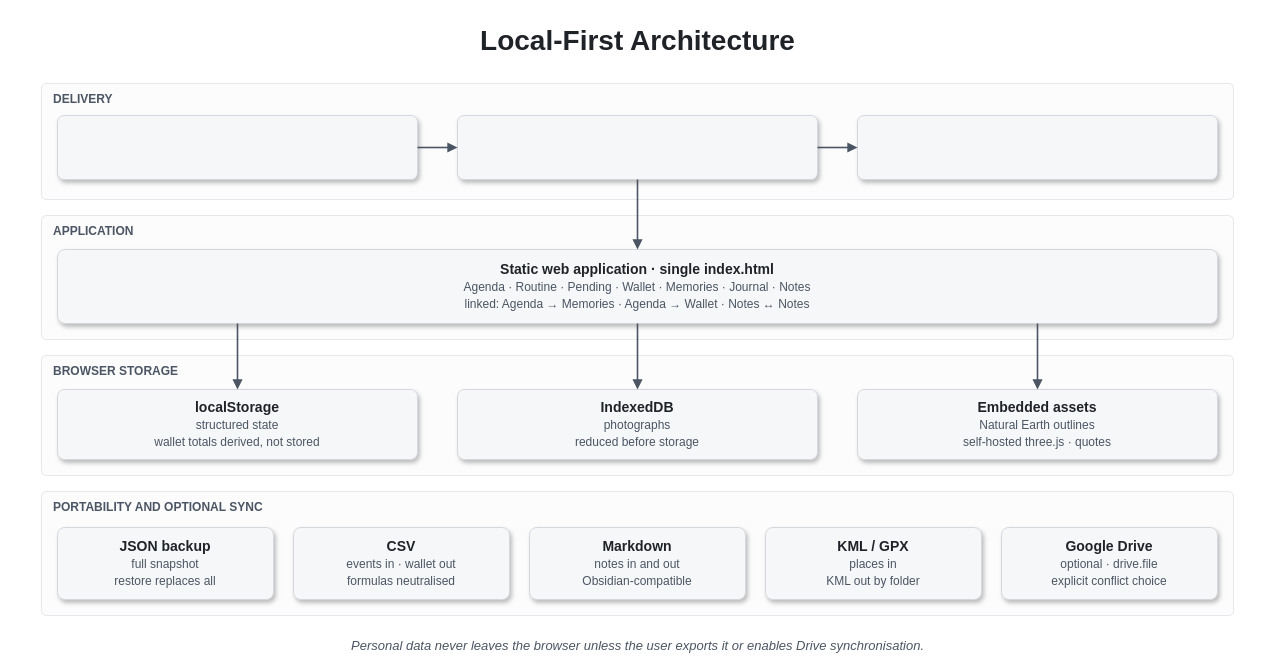
This 1274x672 diagram has some shape labels left out. The shapes that lost their labels are listed below. From the top down, each one's centre as x and y in pixels, then its label:
pixel 238 148: GitHub Pages static files · no backend
pixel 638 148: Service worker network-first app · cache-first assets
pixel 1038 148: Installable PWA manifest · home-screen shortcuts
